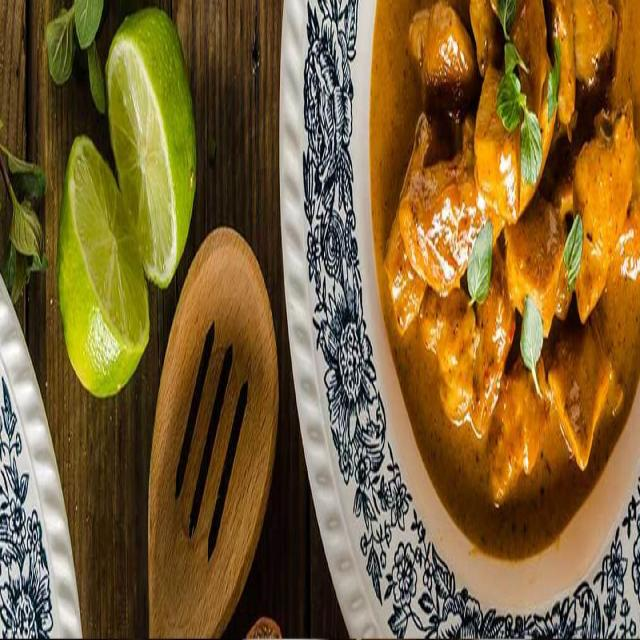chicken: (373, 0, 639, 577)
